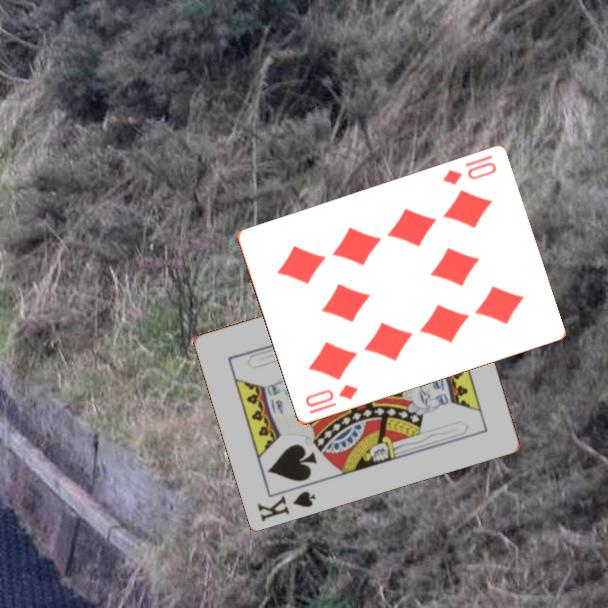d10: (439, 152, 499, 188), (301, 381, 361, 410)
s13: (254, 487, 319, 524)
